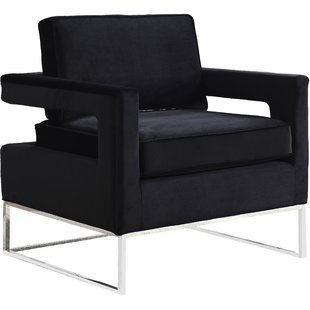chairs: (1, 13, 309, 295)
